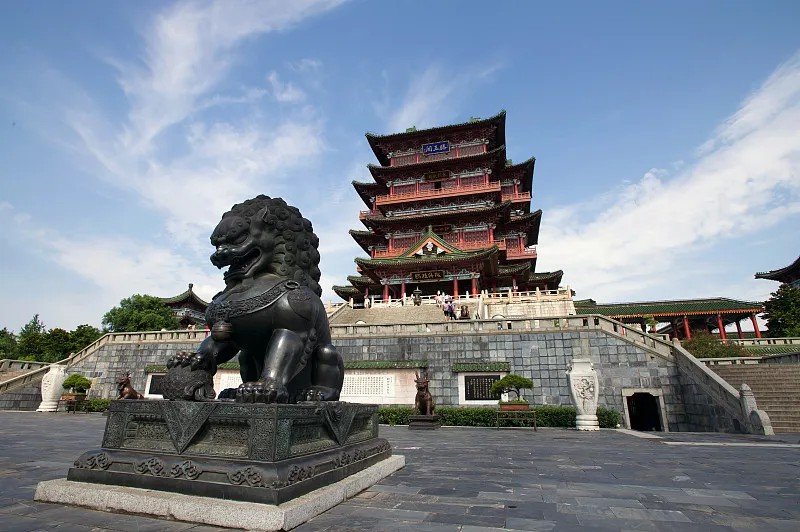Teng: (332, 109, 564, 299)
